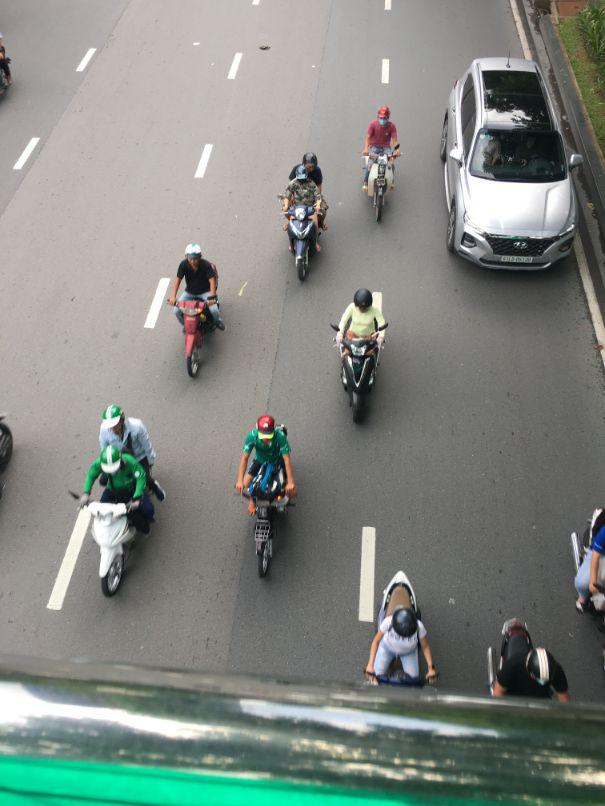car: (440, 56, 577, 269)
motorbike: (89, 476, 159, 598), (339, 322, 387, 422), (249, 473, 290, 577), (282, 198, 325, 283), (173, 294, 213, 380), (364, 145, 397, 225)
